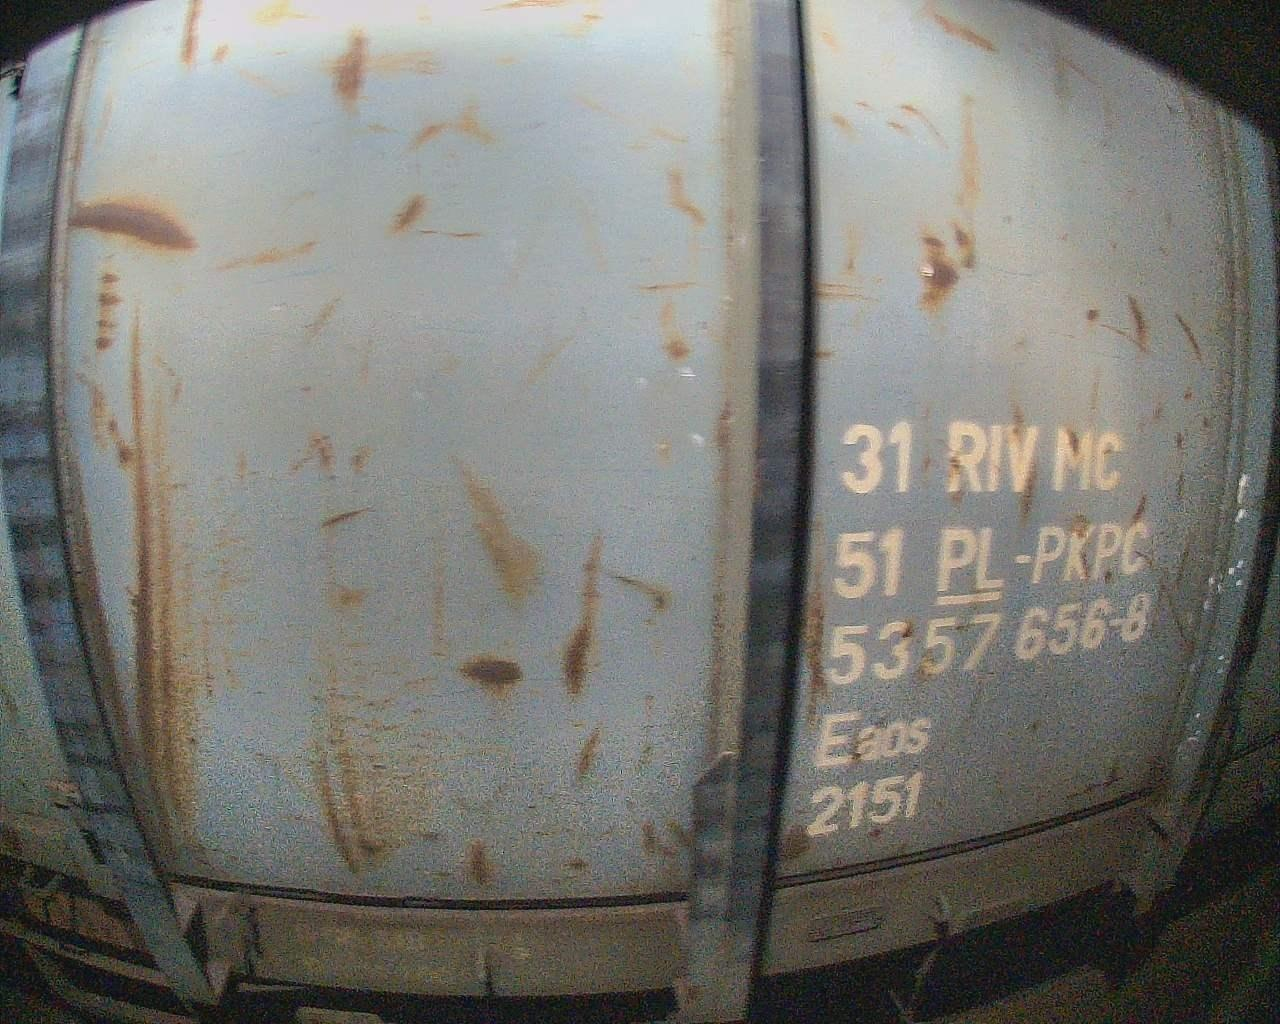UIC: (806, 418, 1154, 842)
